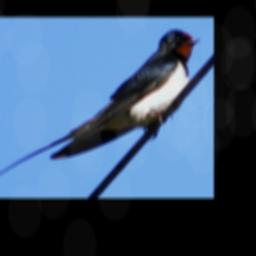Swallow: (0, 28, 201, 180)
